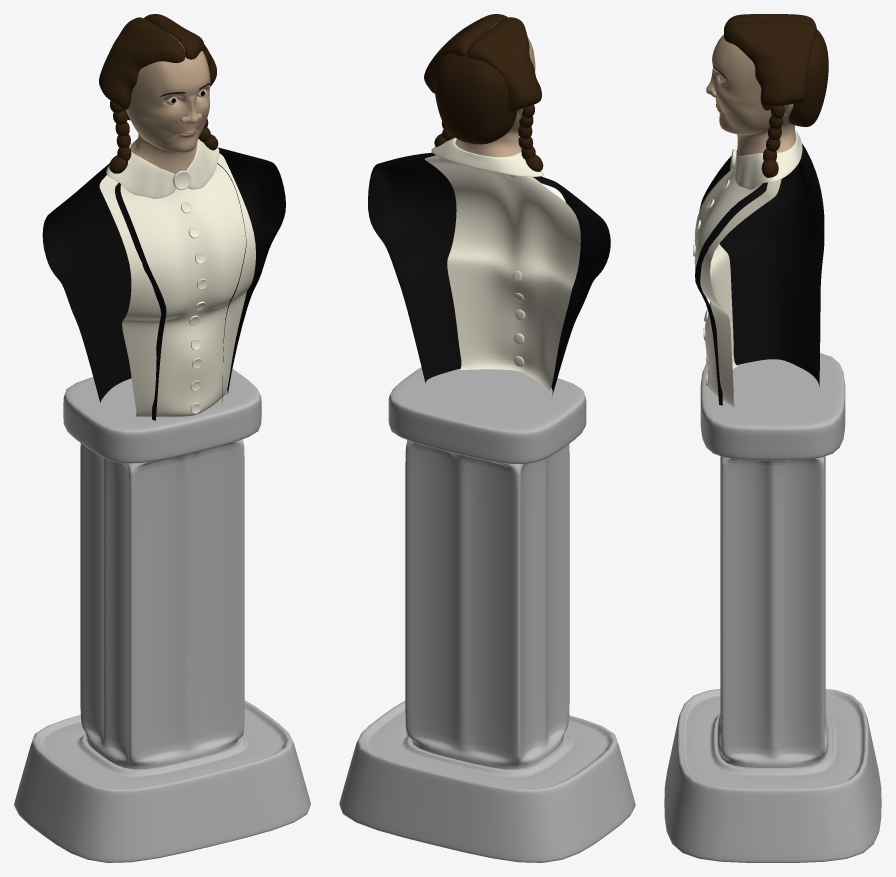
Rendered from Dickinson.gltf.
The picture shows the model from 3 angles, left to right: view 1: azimuth 30°, elevation 25°; view 2: azimuth 150°, elevation 25°; view 3: azimuth 270°, elevation 25°; orthographic projection.
Visible parts, largest first — view 1: Collumn.005, Plane.012, Plane.011, Cube.010, Cube.012, Plane.010, Cube.015; view 2: Collumn.005, Plane.012, Plane.011, Cube.014, Cube.012, Plane.010, Cube.010, Cube.015; view 3: Collumn.005, Plane.011, Plane.012, Cube.012, Cube.010, Cube.014, Plane.010, Cube.015.
Boxes of the visible parts, x1,y1,x2,y2 form: Collumn.005: (14, 369, 310, 862); Plane.012: (99, 153, 255, 417); Plane.011: (42, 147, 285, 420); Cube.010: (125, 33, 210, 173); Cube.012: (99, 14, 216, 109); Plane.010: (106, 139, 219, 198); Cube.015: (109, 100, 218, 173); Collumn.005: (339, 367, 635, 862); Plane.012: (424, 155, 580, 391); Plane.011: (368, 152, 610, 395); Cube.014: (434, 53, 517, 144); Cube.012: (424, 14, 541, 112); Plane.010: (431, 137, 544, 176); Cube.010: (455, 22, 535, 156); Cube.015: (434, 104, 543, 171); Collumn.005: (664, 353, 881, 862); Plane.011: (695, 143, 824, 405); Plane.012: (694, 168, 781, 409); Cube.012: (724, 14, 816, 110); Cube.010: (706, 34, 795, 155); Cube.014: (788, 29, 828, 126); Plane.010: (734, 130, 802, 189); Cube.015: (761, 105, 784, 177).
Size of the model in its own units: 3.86 by 11.96 by 3.
